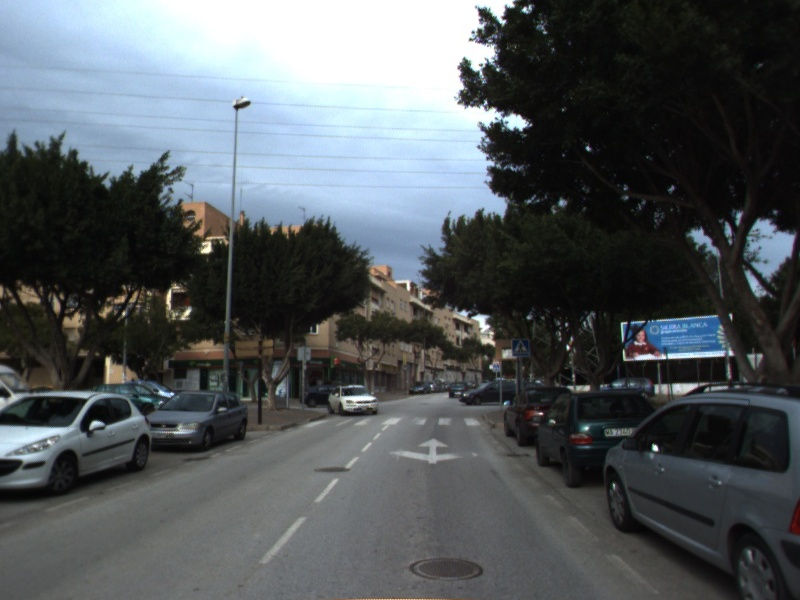STRAIGHT_LEFT_RIGHT: (386, 435, 480, 465)
